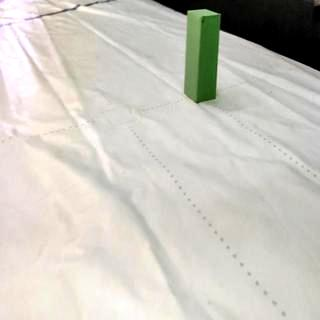greenbox: (186, 9, 220, 102)
